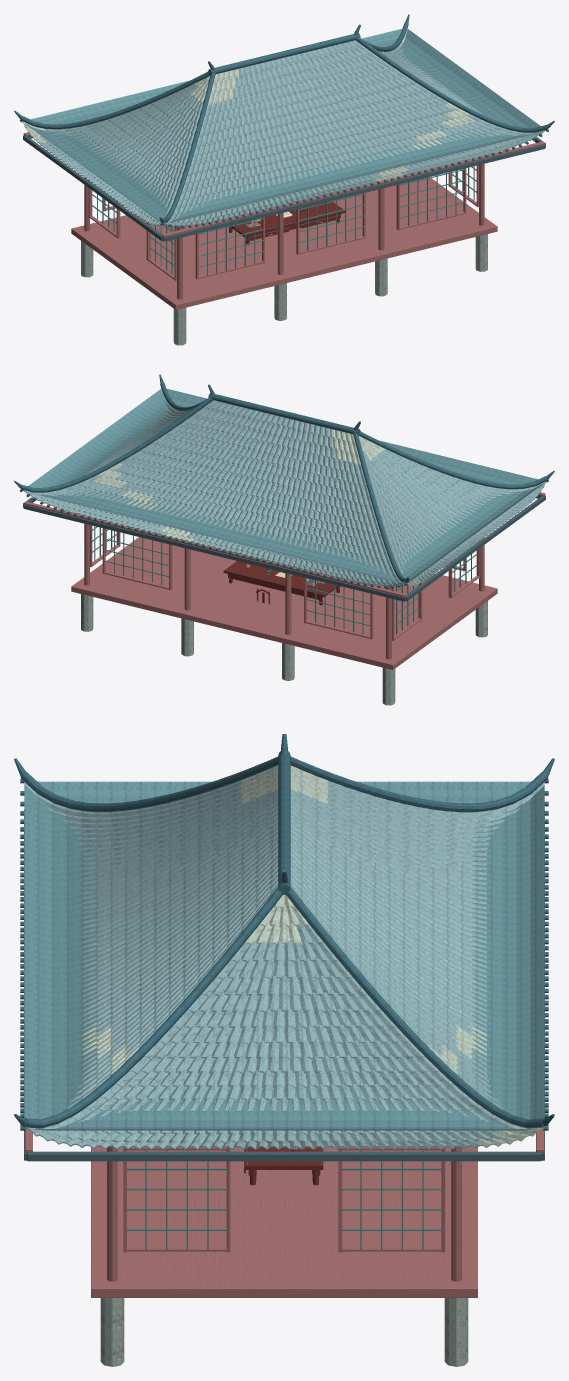
The model's file is reference-public_models_places_ouxiangxie.glb.
3 views of the same model, one above another, from view 1: azimuth 30°, elevation 25°; view 2: azimuth 150°, elevation 25°; view 3: azimuth 270°, elevation 25° (orthographic). The views are drawn at different scales.
Parts seen in each view (by area): view 1: ouxiangxie_tile.001, ouxiangxie_wood.001, ouxiangxie_roof.001, ouxiangxie_tiledark.001, ouxiangxie_latticewood.001, ouxiangxie_darkwood.001, ouxiangxie_tilelight.001, ouxiangxie_stone.001, ouxiangxie_furniture; view 2: ouxiangxie_tile.001, ouxiangxie_wood.001, ouxiangxie_roof.001, ouxiangxie_tiledark.001, ouxiangxie_darkwood.001, ouxiangxie_latticewood.001, ouxiangxie_stone.001, ouxiangxie_tilelight.001, ouxiangxie_furniture; view 3: ouxiangxie_tile.001, ouxiangxie_roof.001, ouxiangxie_wood.001, ouxiangxie_tiledark.001, ouxiangxie_tilelight.001, ouxiangxie_darkwood.001, ouxiangxie_stone.001, ouxiangxie_latticewood.001, ouxiangxie_furniture.
Part boxes in pixels (<box>): ouxiangxie_tile.001: <box>35,40,545,226</box>; ouxiangxie_wood.001: <box>23,132,545,309</box>; ouxiangxie_roof.001: <box>24,29,545,223</box>; ouxiangxie_tiledark.001: <box>14,14,554,228</box>; ouxiangxie_latticewood.001: <box>92,166,476,275</box>; ouxiangxie_darkwood.001: <box>23,135,545,241</box>; ouxiangxie_tilelight.001: <box>22,28,475,181</box>; ouxiangxie_stone.001: <box>81,234,487,345</box>; ouxiangxie_furniture: <box>228,201,345,245</box>; ouxiangxie_tile.001: <box>23,388,546,586</box>; ouxiangxie_wood.001: <box>23,492,545,669</box>; ouxiangxie_roof.001: <box>23,389,544,583</box>; ouxiangxie_tiledark.001: <box>14,374,554,588</box>; ouxiangxie_darkwood.001: <box>23,495,545,601</box>; ouxiangxie_latticewood.001: <box>92,526,476,634</box>; ouxiangxie_stone.001: <box>81,594,487,705</box>; ouxiangxie_tilelight.001: <box>24,428,421,586</box>; ouxiangxie_furniture: <box>223,561,340,605</box>; ouxiangxie_tile.001: <box>24,780,544,1149</box>; ouxiangxie_roof.001: <box>24,781,544,1130</box>; ouxiangxie_wood.001: <box>25,1129,543,1297</box>; ouxiangxie_tiledark.001: <box>14,734,554,1130</box>; ouxiangxie_tilelight.001: <box>82,765,543,1147</box>; ouxiangxie_darkwood.001: <box>24,809,544,1173</box>; ouxiangxie_stone.001: <box>100,1298,468,1366</box>; ouxiangxie_latticewood.001: <box>126,1150,442,1249</box>; ouxiangxie_furniture: <box>244,1133,361,1185</box>.
Bounding box in the file's own units: 19.65 × 10.88 × 12.58.
Materials: 18 (14 with a texture image).
